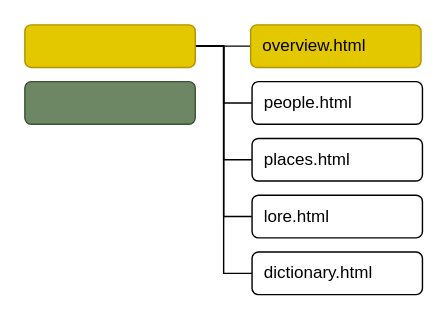
This 447x320 diagram has some shape labels left out. The shapes that lost their labels are listed below. From the top down, each one's centre as x and y in pixels, then its label:
At point 109,45: "index.html".
At point 109,102: "template.html".
